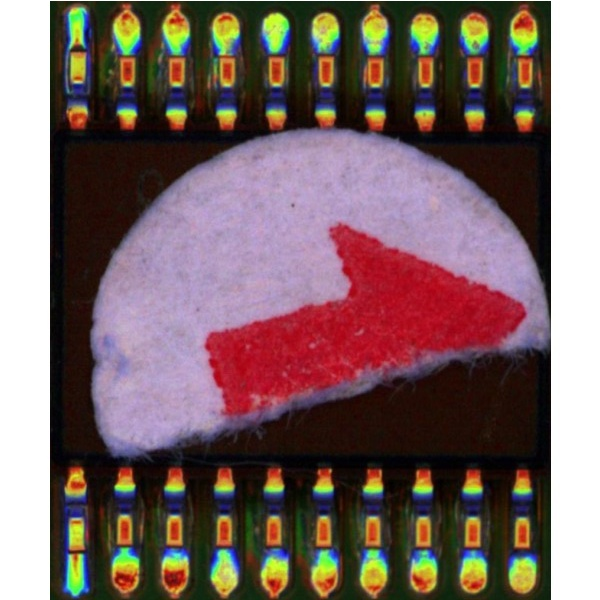Bad_podu: (71, 536, 82, 568), (71, 31, 84, 58)
Bad_qiaojiao: (63, 50, 71, 93)
